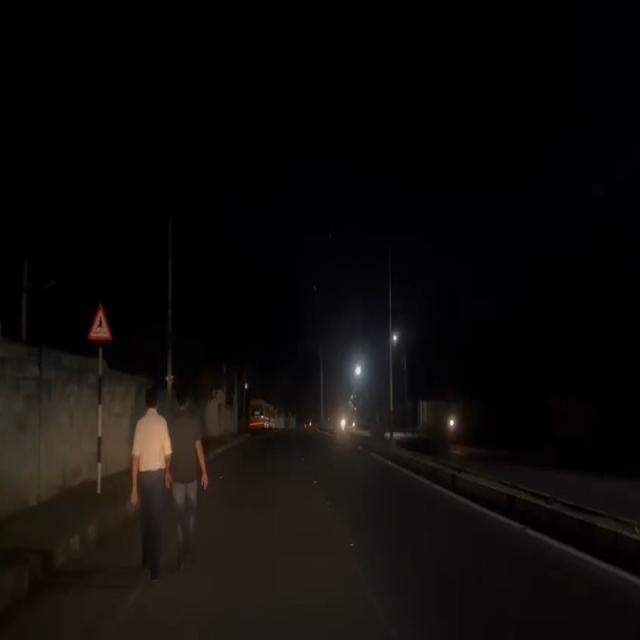bien_nguy_hiem: (87, 302, 112, 343)
